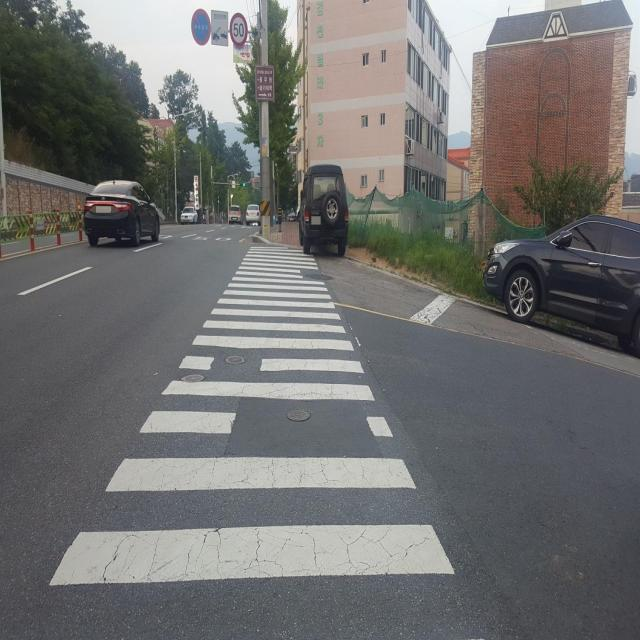횡단보도: (45, 243, 458, 592)
